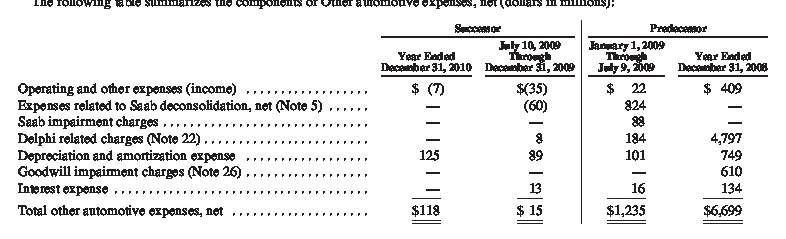table: (0, 0, 786, 239)
